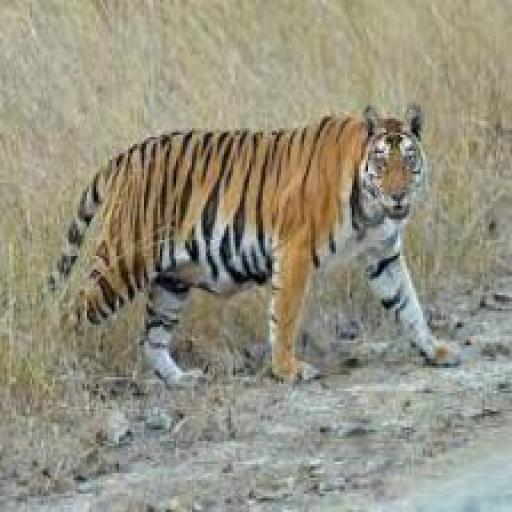Tiger: (55, 107, 459, 381)
